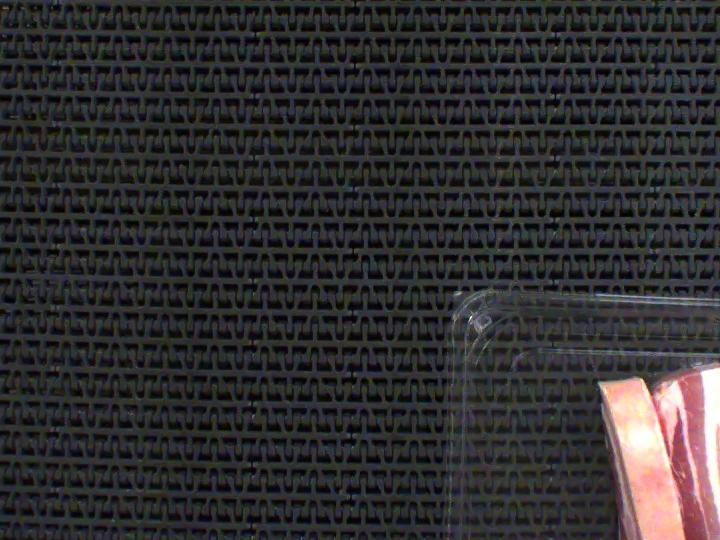twisted-meat: (587, 352, 704, 540)
